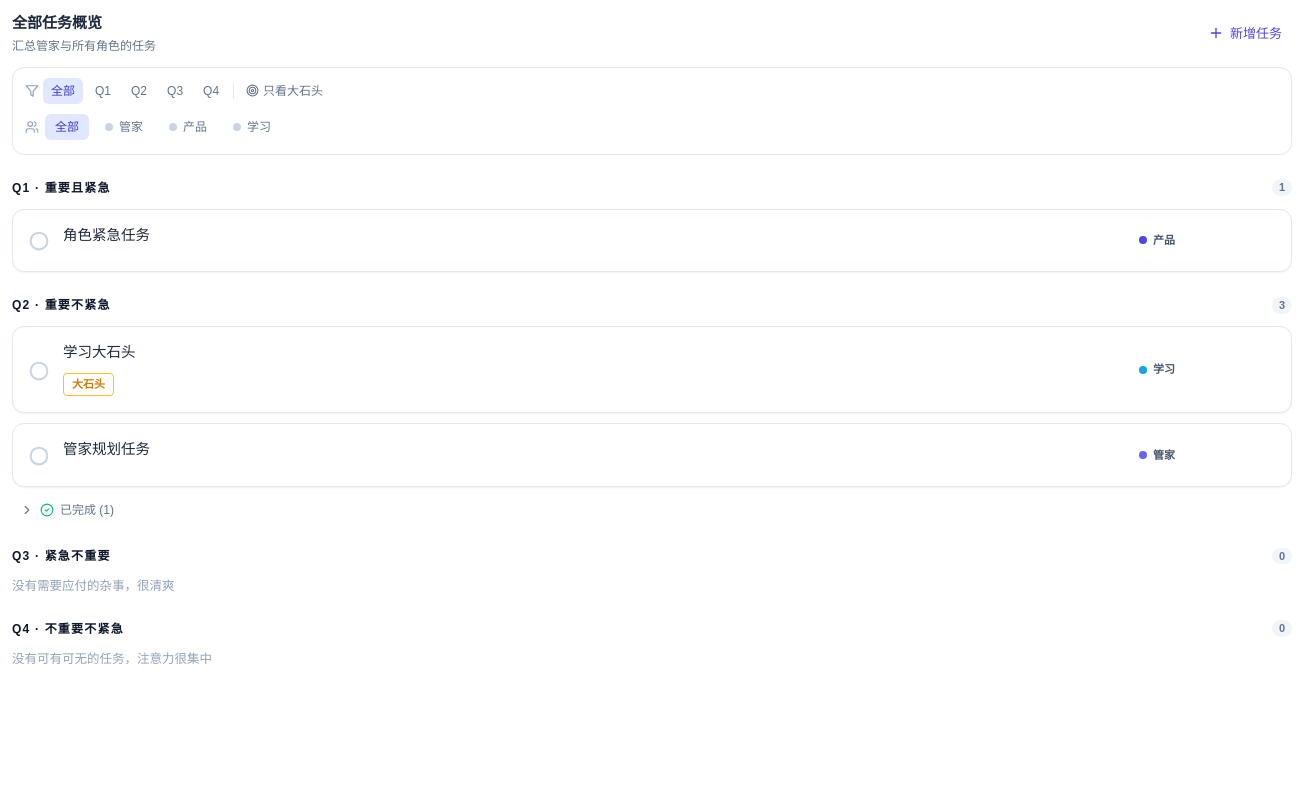
Scenario: TaskOverviewTab › 默认折叠已完成任务，可展开查看
This screenshot has width=1304, height=812.
Expected: the text "已完成任务" is not shown
Click the button "已完成 (1)" at (67, 510), box [12,497,122,523]
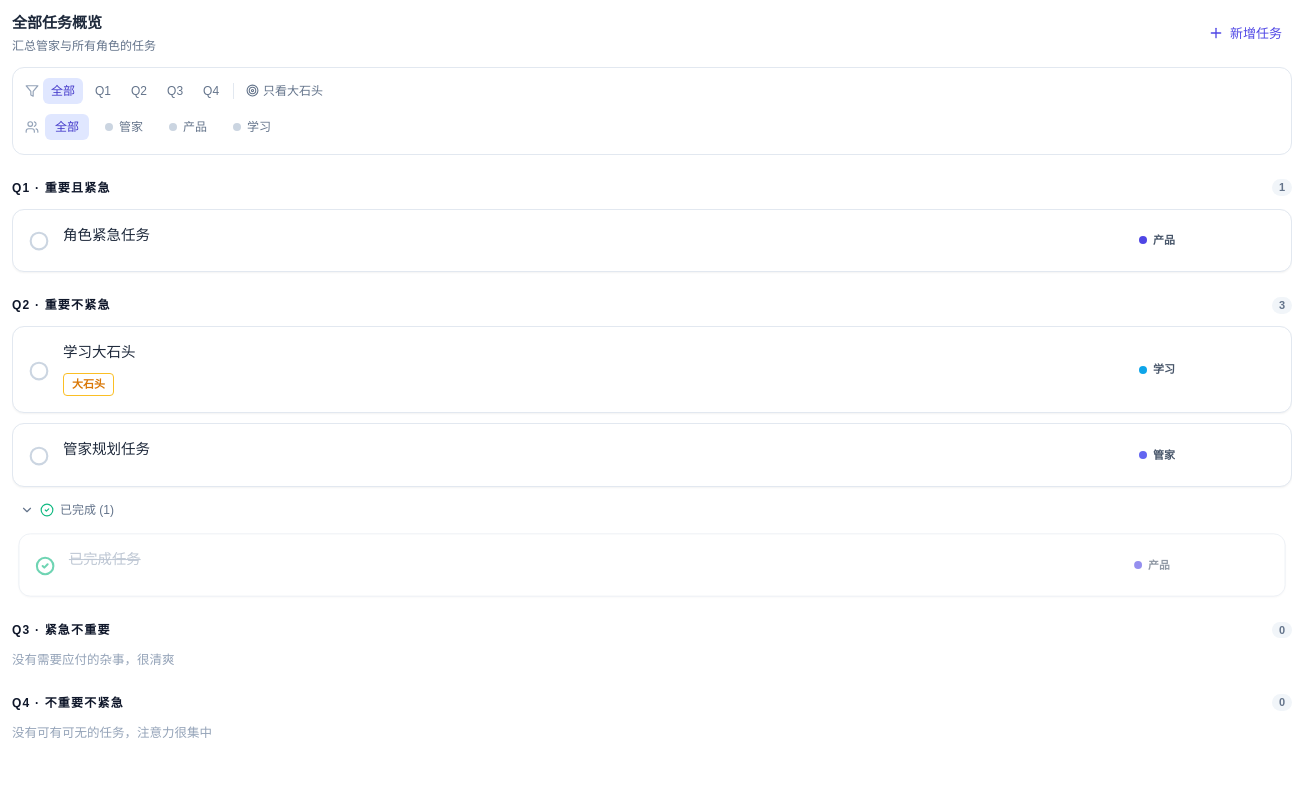
Expected: the text "已完成任务" is shown, [69,551,141,567]
